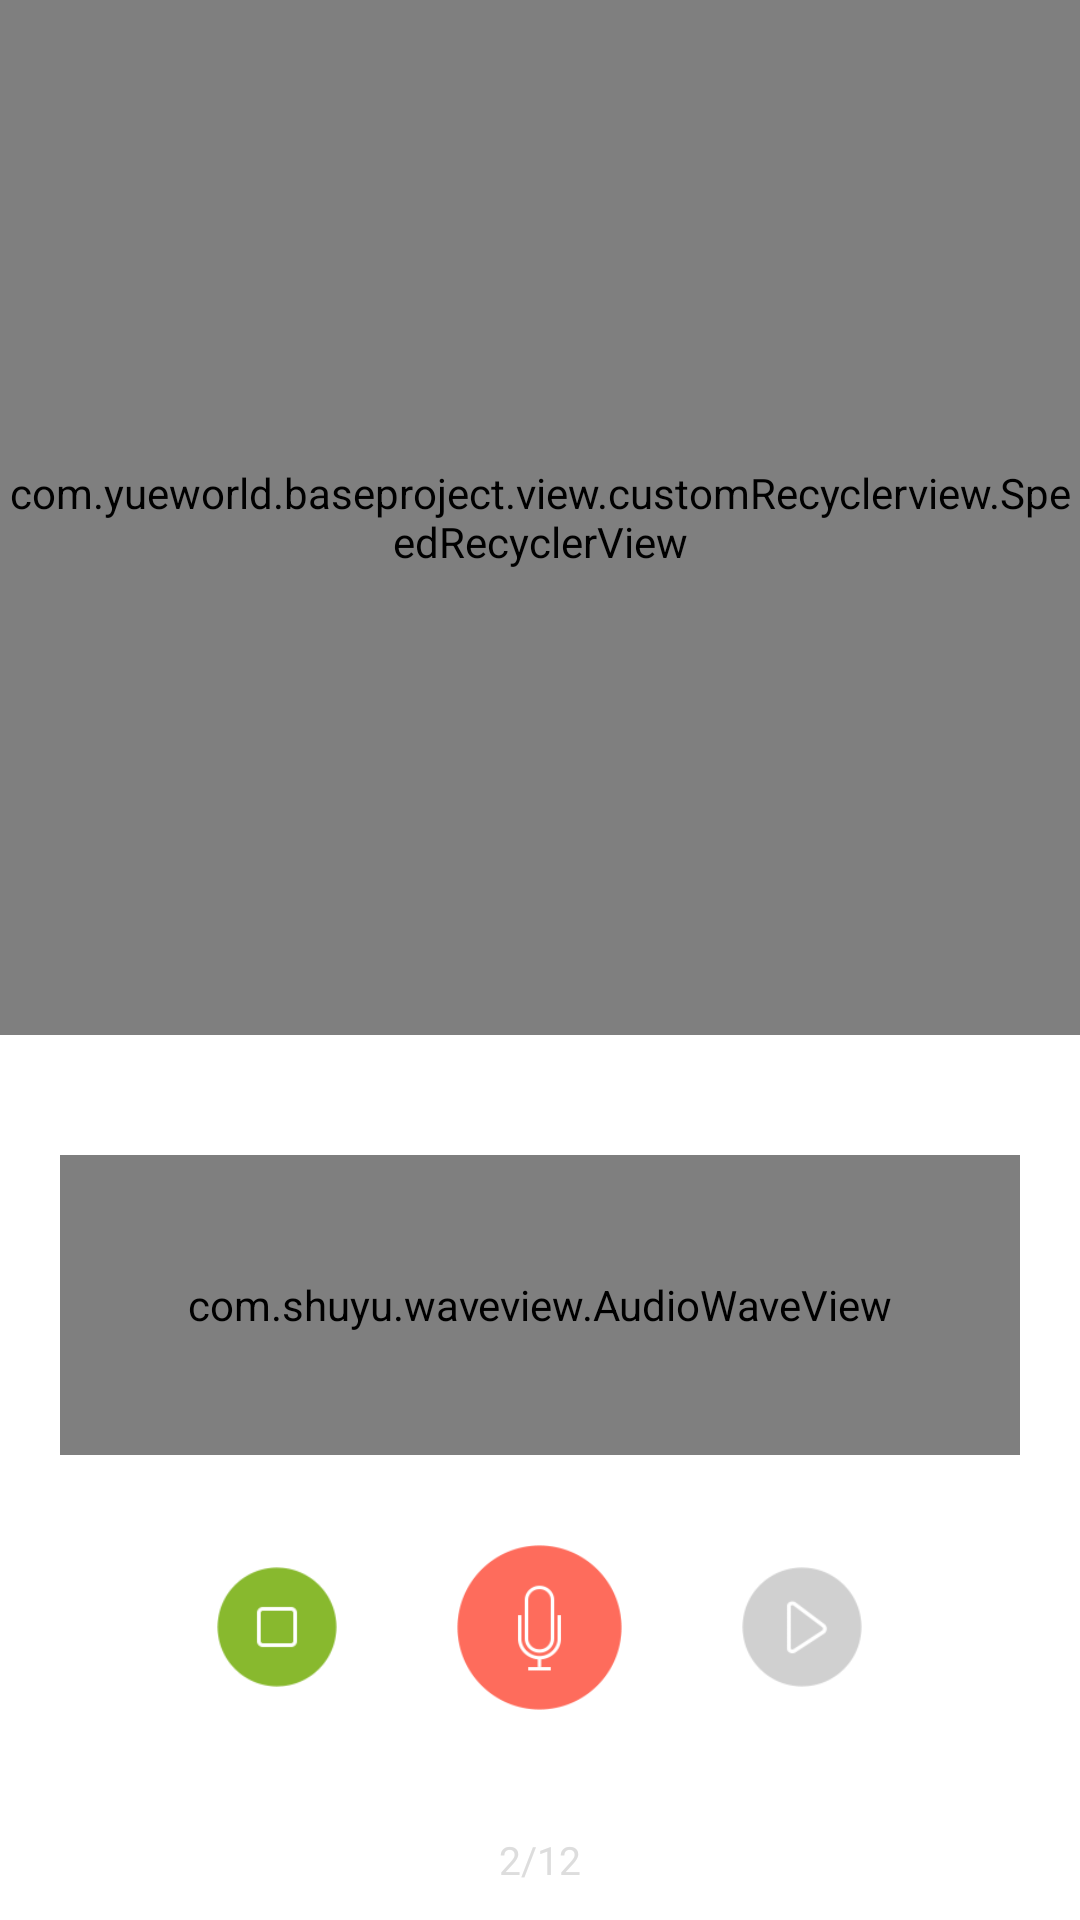

Locate icon controls on the screen. Image size 1080px×1920px, boxes as (x1, y1, x2, y2).
sound recording: (457, 1545, 622, 1710)
